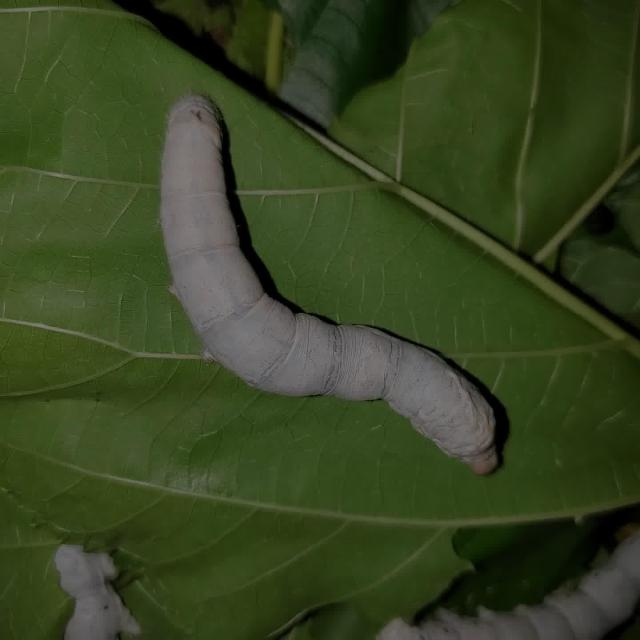Healthy: (138, 70, 516, 501)
